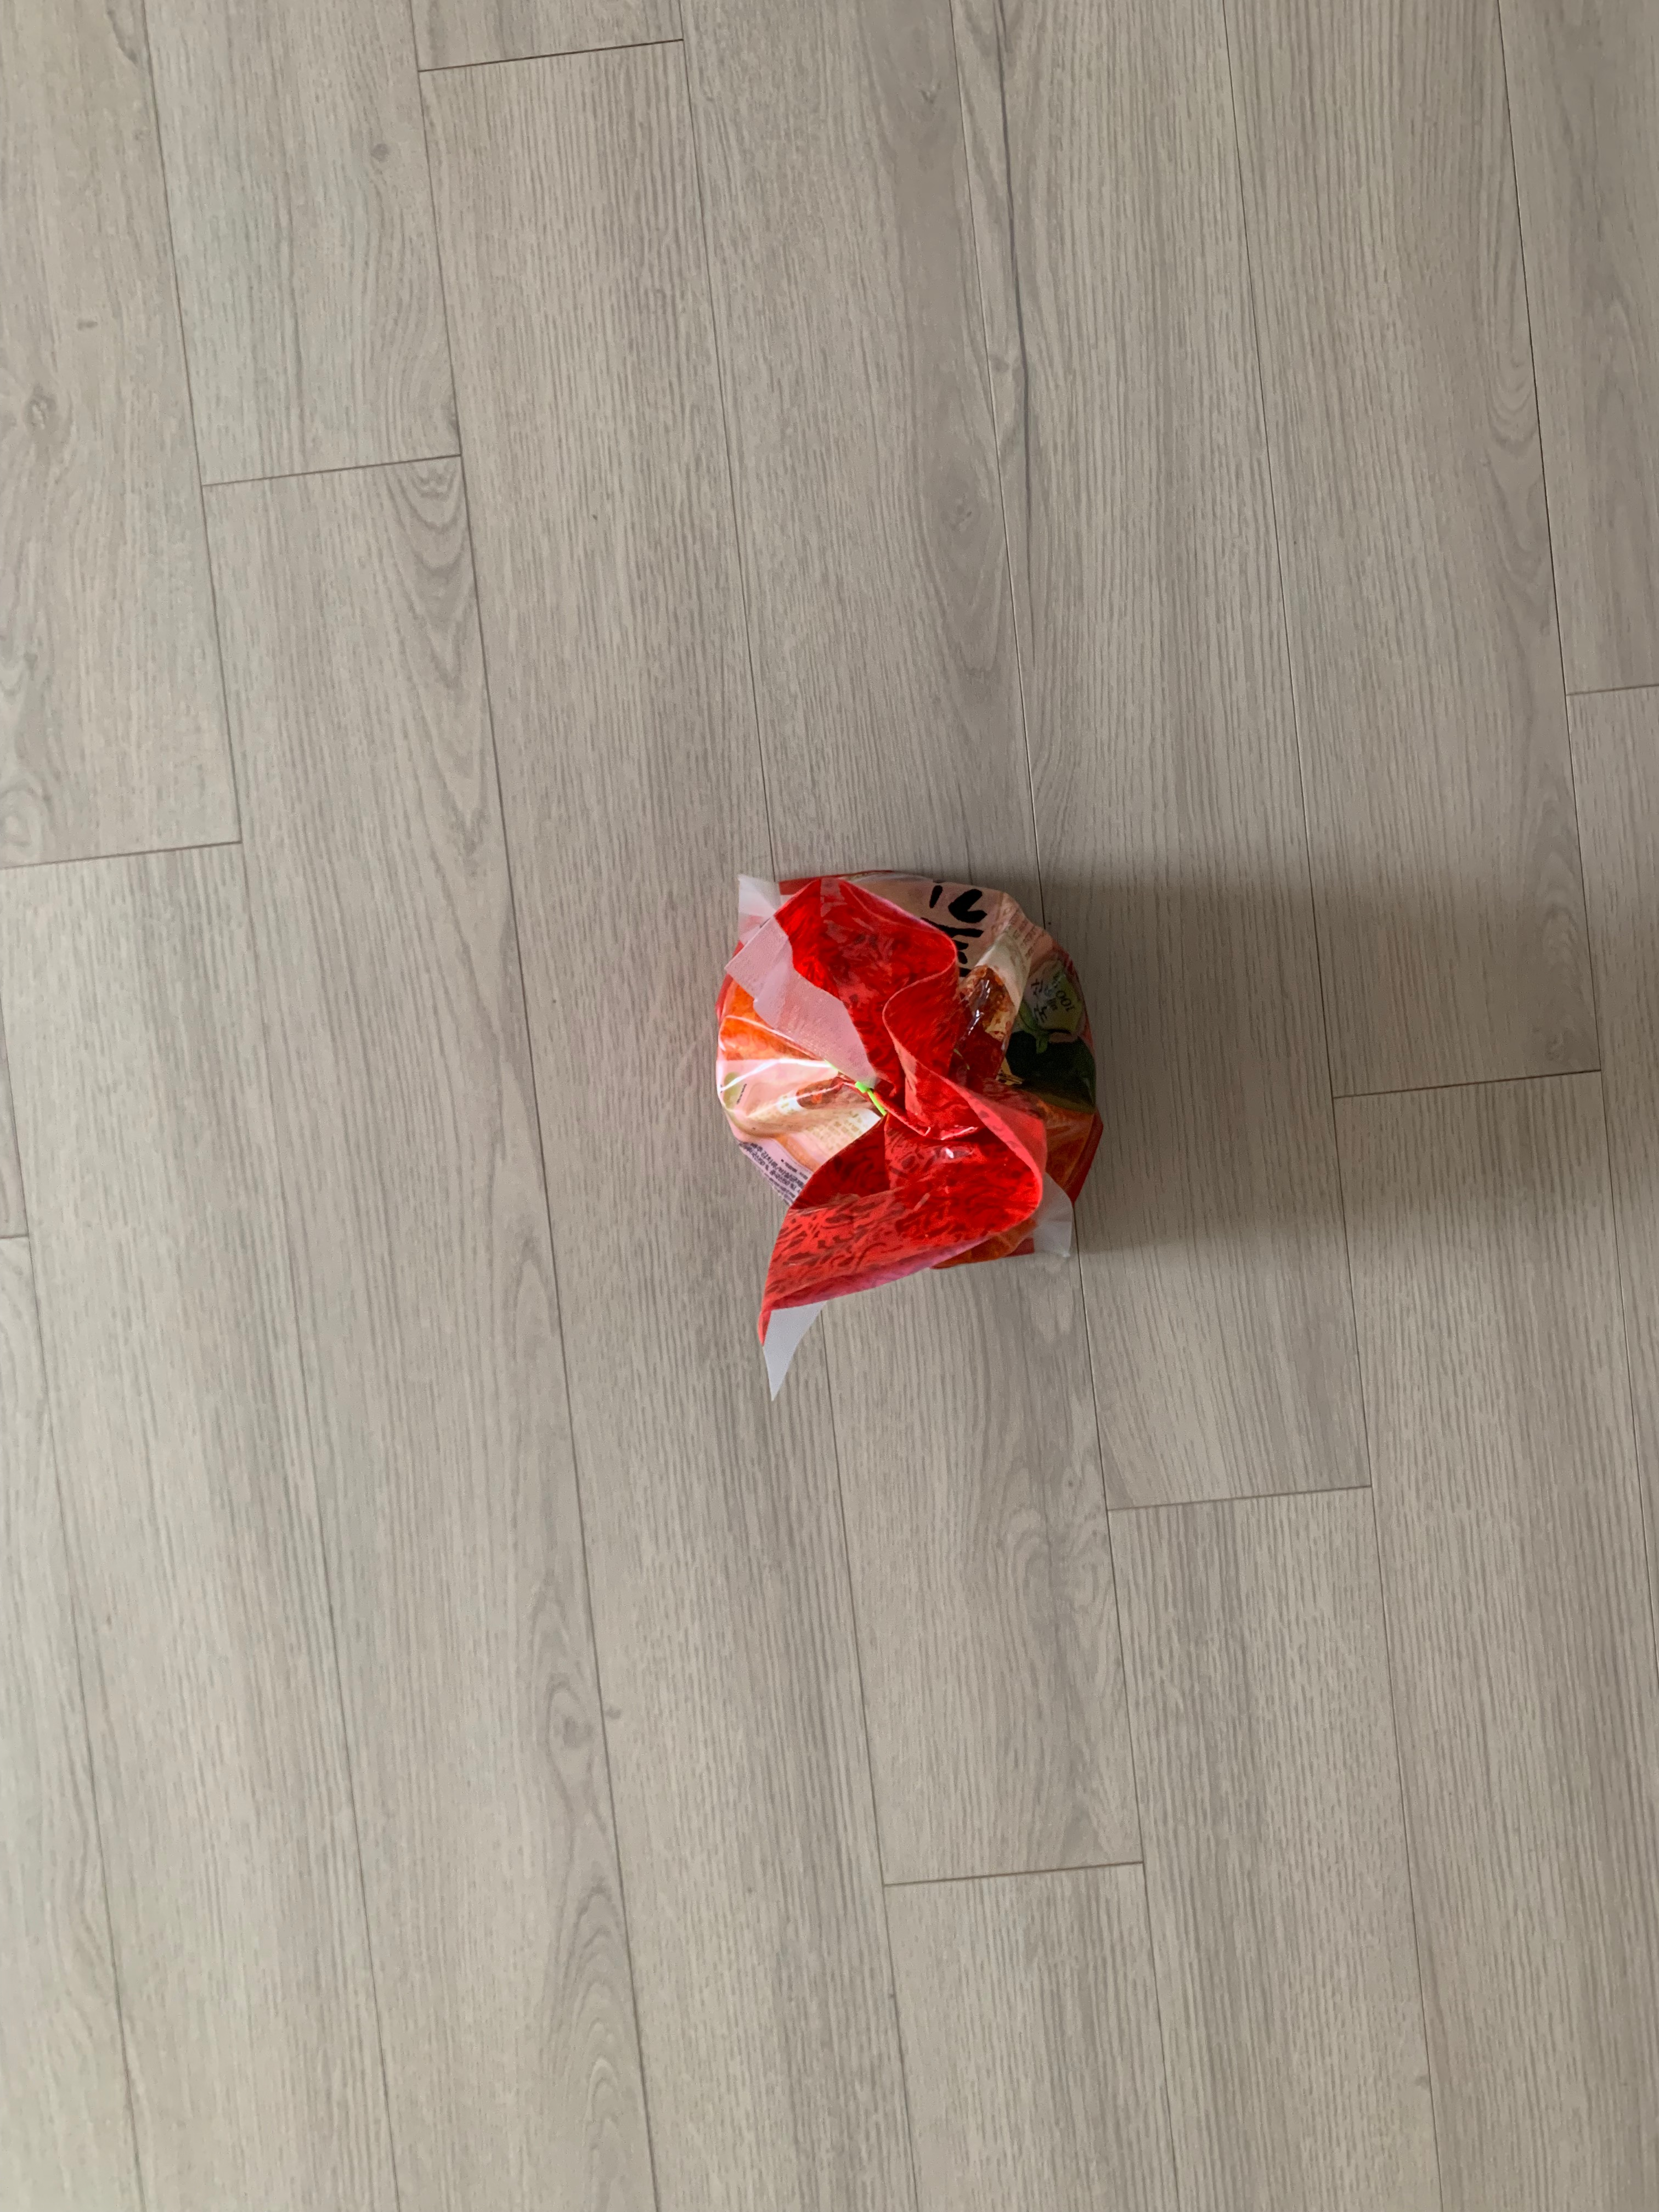kimchi: (711, 864, 1107, 1301)
